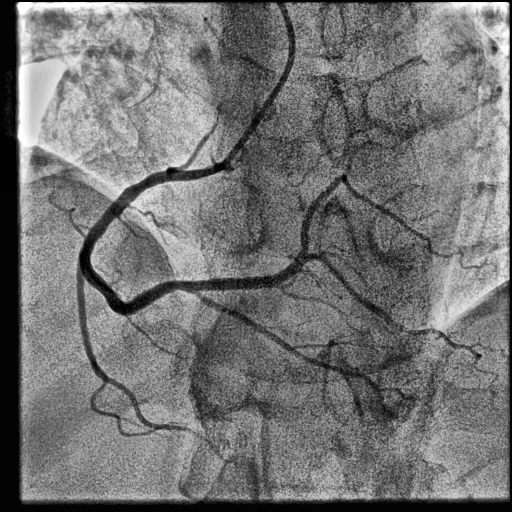pborca: (194, 175, 456, 291)
pda: (191, 291, 385, 400)
rca: (79, 169, 203, 317)
